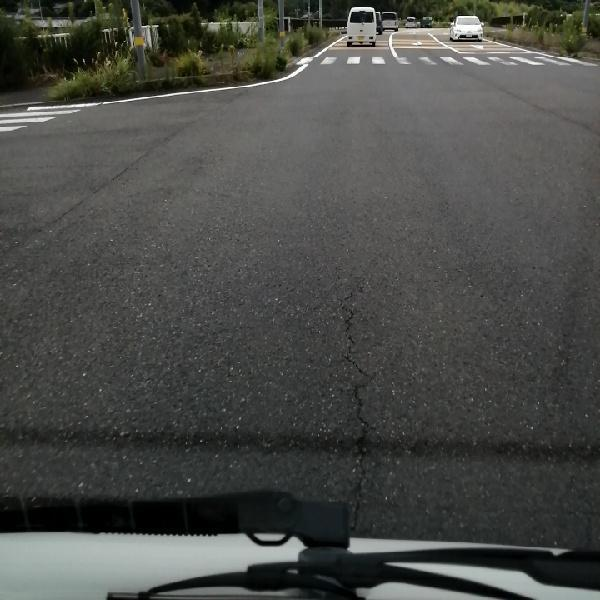D00: (327, 269, 377, 457)
